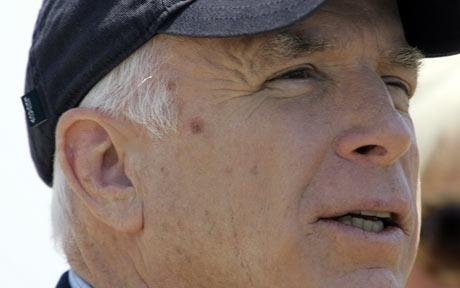mole: (184, 115, 212, 139)
